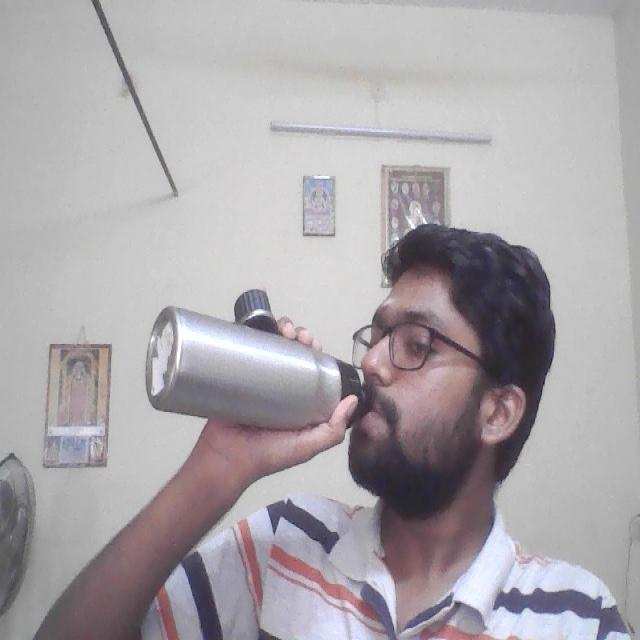Drinking: (139, 277, 364, 438)
